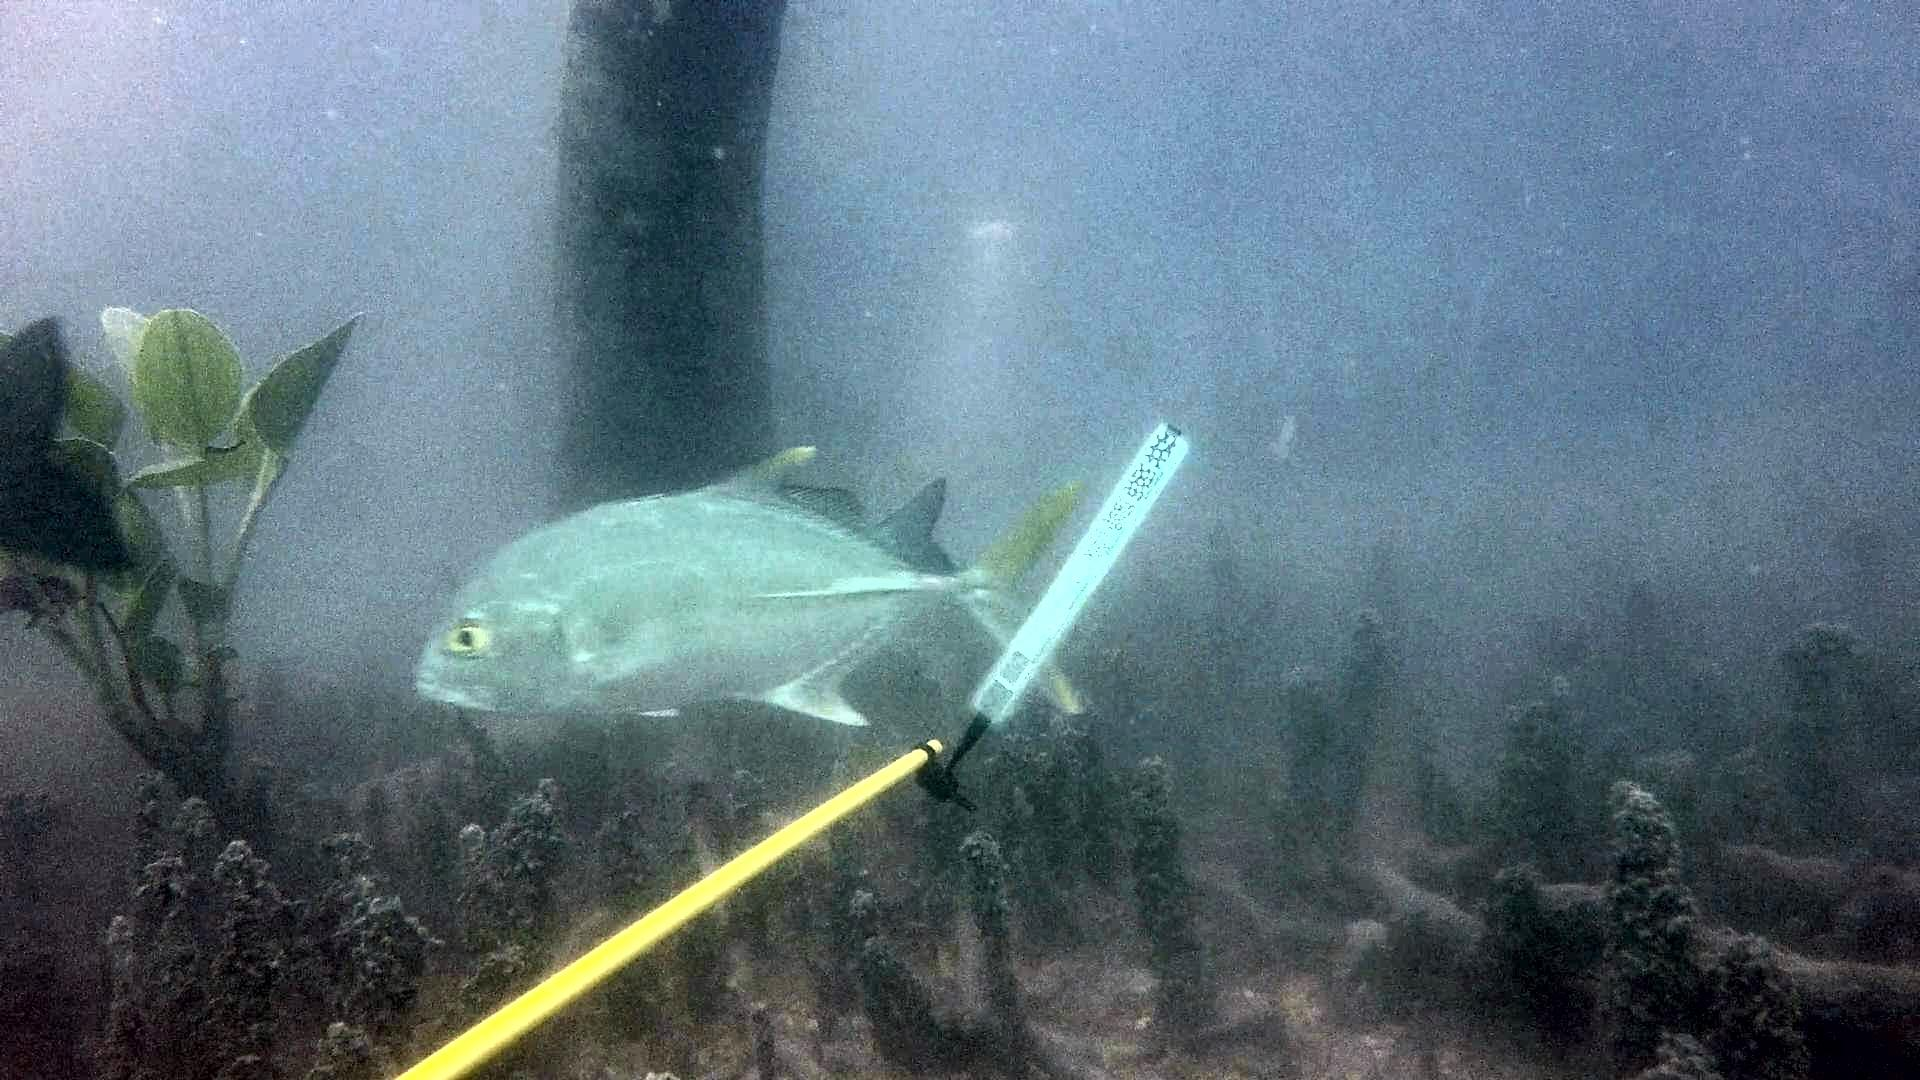caranx: (393, 426, 1097, 757)
